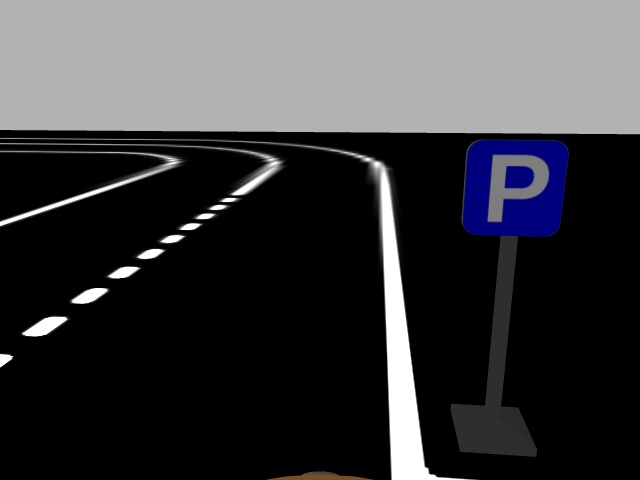parking: (460, 138, 570, 236)
